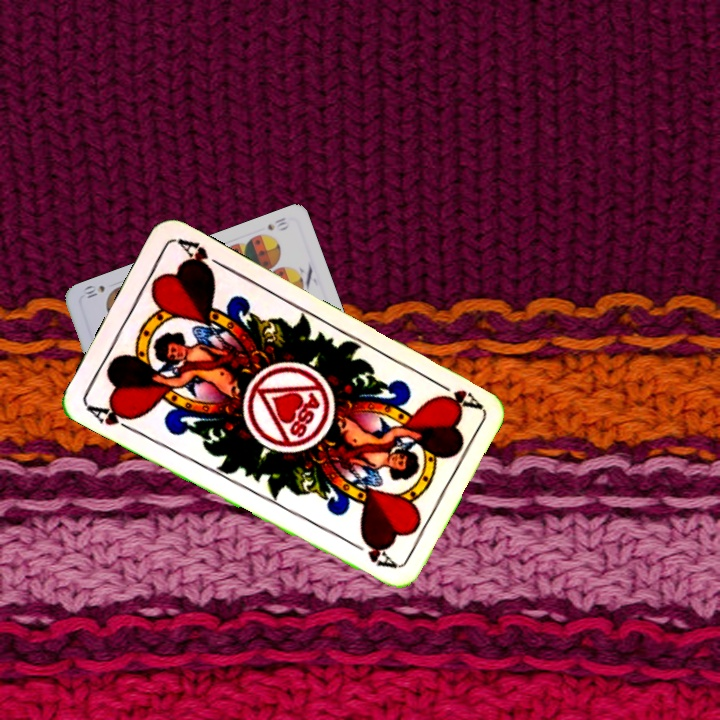HA: (428, 375, 483, 412), (83, 400, 139, 436)
S10: (263, 213, 292, 233)
